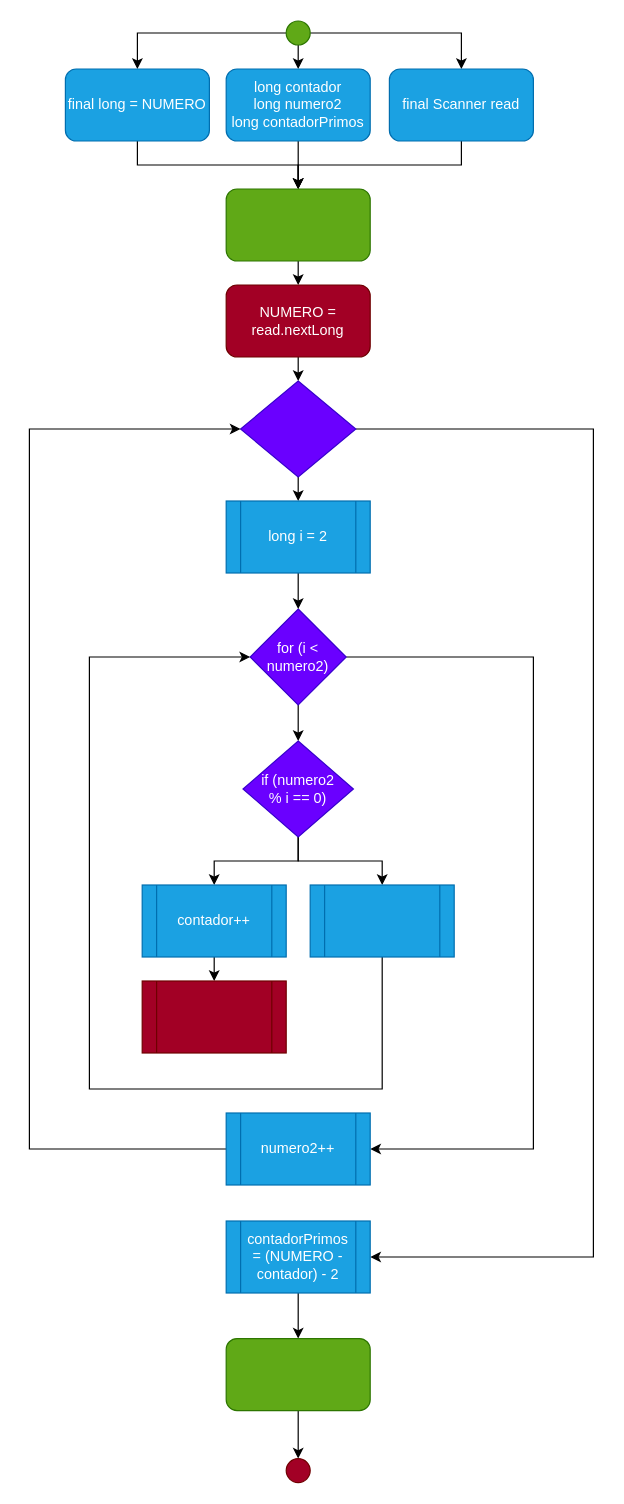
Some shapes in this 624 by 1504 pixel diagram are drawn without their labels. Here are the shapes that lost their labels. From the top down, the box of each, then its label:
(225, 188, 370, 261): out (Introduce un numero: )
(239, 380, 356, 477): for (numero2 < NUMERO)
(309, 884, 454, 957): i++
(141, 980, 286, 1053): break
(225, 1337, 370, 1411): out (Entre 1 y NUMERO hay + contadorPrimos + numeros Primos)
